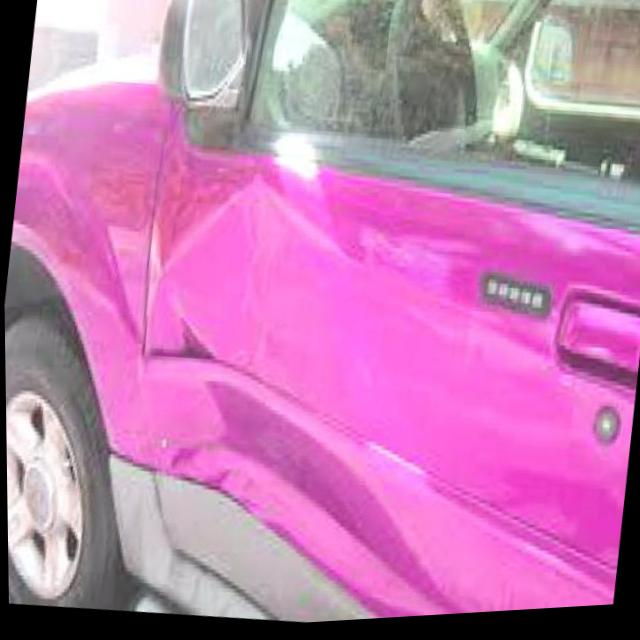Car-Damage: (106, 155, 494, 635)
